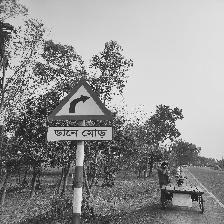Right-turn: (46, 79, 114, 143)
